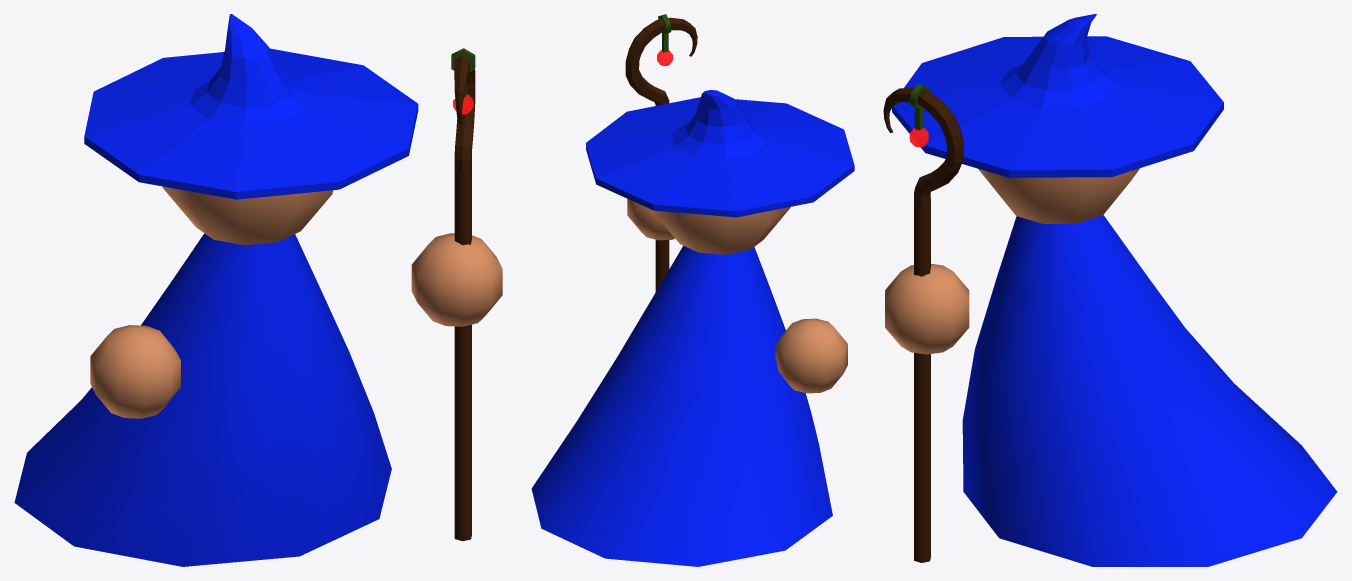
The model's file is Wizard.FBX.
3 views of the same model, side by side, from view 1: azimuth 30°, elevation 25°; view 2: azimuth 150°, elevation 25°; view 3: azimuth 270°, elevation 25° (orthographic). The views are drawn at different scales.
Parts seen in each view (by area): view 1: Wizard; view 2: Wizard; view 3: Wizard.
Part boxes in pixels (x1,y1,x2,y2): Wizard: (14,14,502,566); Wizard: (531,14,854,566); Wizard: (883,14,1337,566).
Bounding box in the file's own units: 58.43 × 70.29 × 81.49.
